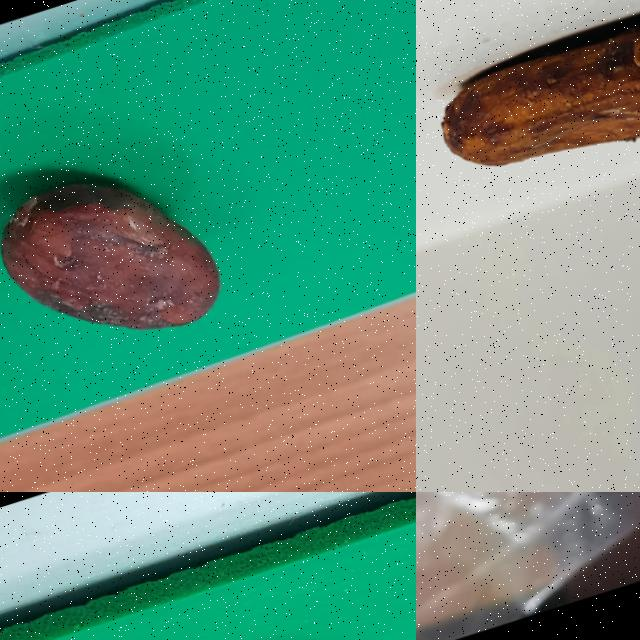Fine_cocoabeans: (0, 52, 380, 437), (416, 0, 639, 242)
Flat_cocoabeans: (115, 564, 415, 639)
